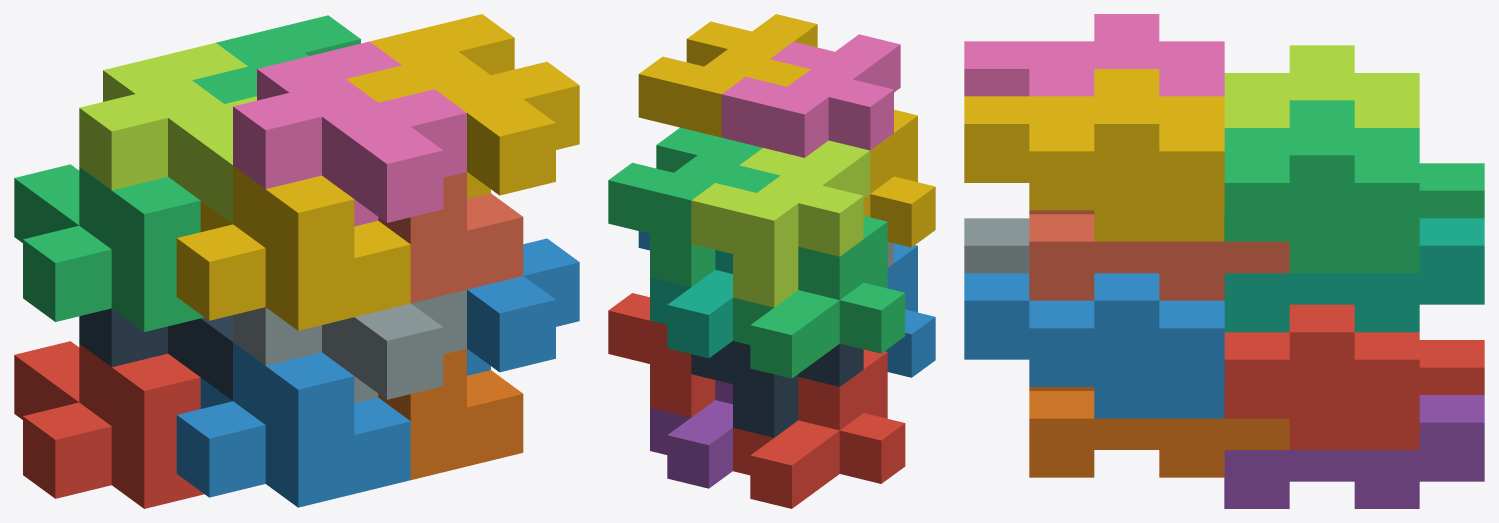
File: tiling.obj
3 renders of one model, left to right at view 1: azimuth 30°, elevation 25°; view 2: azimuth 150°, elevation 25°; view 3: azimuth 270°, elevation 25°, orthographic. The views are drawn at different scales.
Parts seen in each view (by area): view 1: copy_2_domain_4, copy_1_domain_4, copy_1_domain_2, copy_1_domain_1, copy_1_domain_3, copy_2_domain_8, copy_2_domain_3, copy_2_domain_2, copy_1_domain_6, copy_1_domain_8, copy_2_domain_6, copy_2_domain_1 (+1 smaller); view 2: copy_2_domain_3, copy_2_domain_4, copy_1_domain_3, copy_1_domain_1, copy_2_domain_7, copy_2_domain_8, copy_2_domain_1, copy_2_domain_5, copy_1_domain_4, copy_1_domain_5, copy_1_domain_7, copy_1_domain_2; view 3: copy_2_domain_8, copy_2_domain_6, copy_2_domain_7, copy_2_domain_5, copy_1_domain_7, copy_1_domain_5, copy_2_domain_4, copy_1_domain_8, copy_1_domain_6, copy_2_domain_3, copy_1_domain_3, copy_2_domain_2 (+1 smaller).
Part boxes in pixels (<box>): copy_2_domain_4: <box>233,41,466,226</box>; copy_1_domain_4: <box>176,165,410,330</box>; copy_1_domain_2: <box>176,342,410,507</box>; copy_1_domain_1: <box>14,341,204,508</box>; copy_1_domain_3: <box>14,164,204,331</box>; copy_2_domain_8: <box>346,14,579,198</box>; copy_2_domain_3: <box>79,43,256,223</box>; copy_2_domain_2: <box>233,290,466,403</box>; copy_1_domain_6: <box>378,348,523,479</box>; copy_1_domain_8: <box>378,172,523,303</box>; copy_2_domain_6: <box>467,238,579,375</box>; copy_2_domain_1: <box>79,308,232,400</box>; copy_2_domain_3: <box>691,140,870,307</box>; copy_2_domain_4: <box>721,34,900,157</box>; copy_1_domain_3: <box>733,216,905,378</box>; copy_1_domain_1: <box>733,349,905,508</box>; copy_2_domain_7: <box>608,127,780,287</box>; copy_2_domain_8: <box>638,14,817,137</box>; copy_2_domain_1: <box>691,341,863,437</box>; copy_2_domain_5: <box>608,293,715,417</box>; copy_1_domain_4: <box>863,109,935,247</box>; copy_1_domain_5: <box>650,380,732,488</box>; copy_1_domain_7: <box>650,250,732,358</box>; copy_1_domain_2: <box>885,243,935,377</box>; copy_2_domain_8: <box>964,69,1224,241</box>; copy_2_domain_6: <box>964,273,1224,418</box>; copy_2_domain_7: <box>1224,100,1419,273</box>; copy_2_domain_5: <box>1224,304,1419,449</box>; copy_1_domain_7: <box>1224,218,1484,332</box>; copy_1_domain_5: <box>1224,395,1484,508</box>; copy_2_domain_4: <box>964,14,1224,96</box>; copy_1_domain_8: <box>1029,210,1289,300</box>; copy_1_domain_6: <box>1029,387,1289,477</box>; copy_2_domain_3: <box>1224,45,1419,127</box>; copy_1_domain_3: <box>1419,163,1484,218</box>; copy_2_domain_2: <box>964,218,1029,273</box>.
Size of the model in its own units: 7 by 7 by 8.
